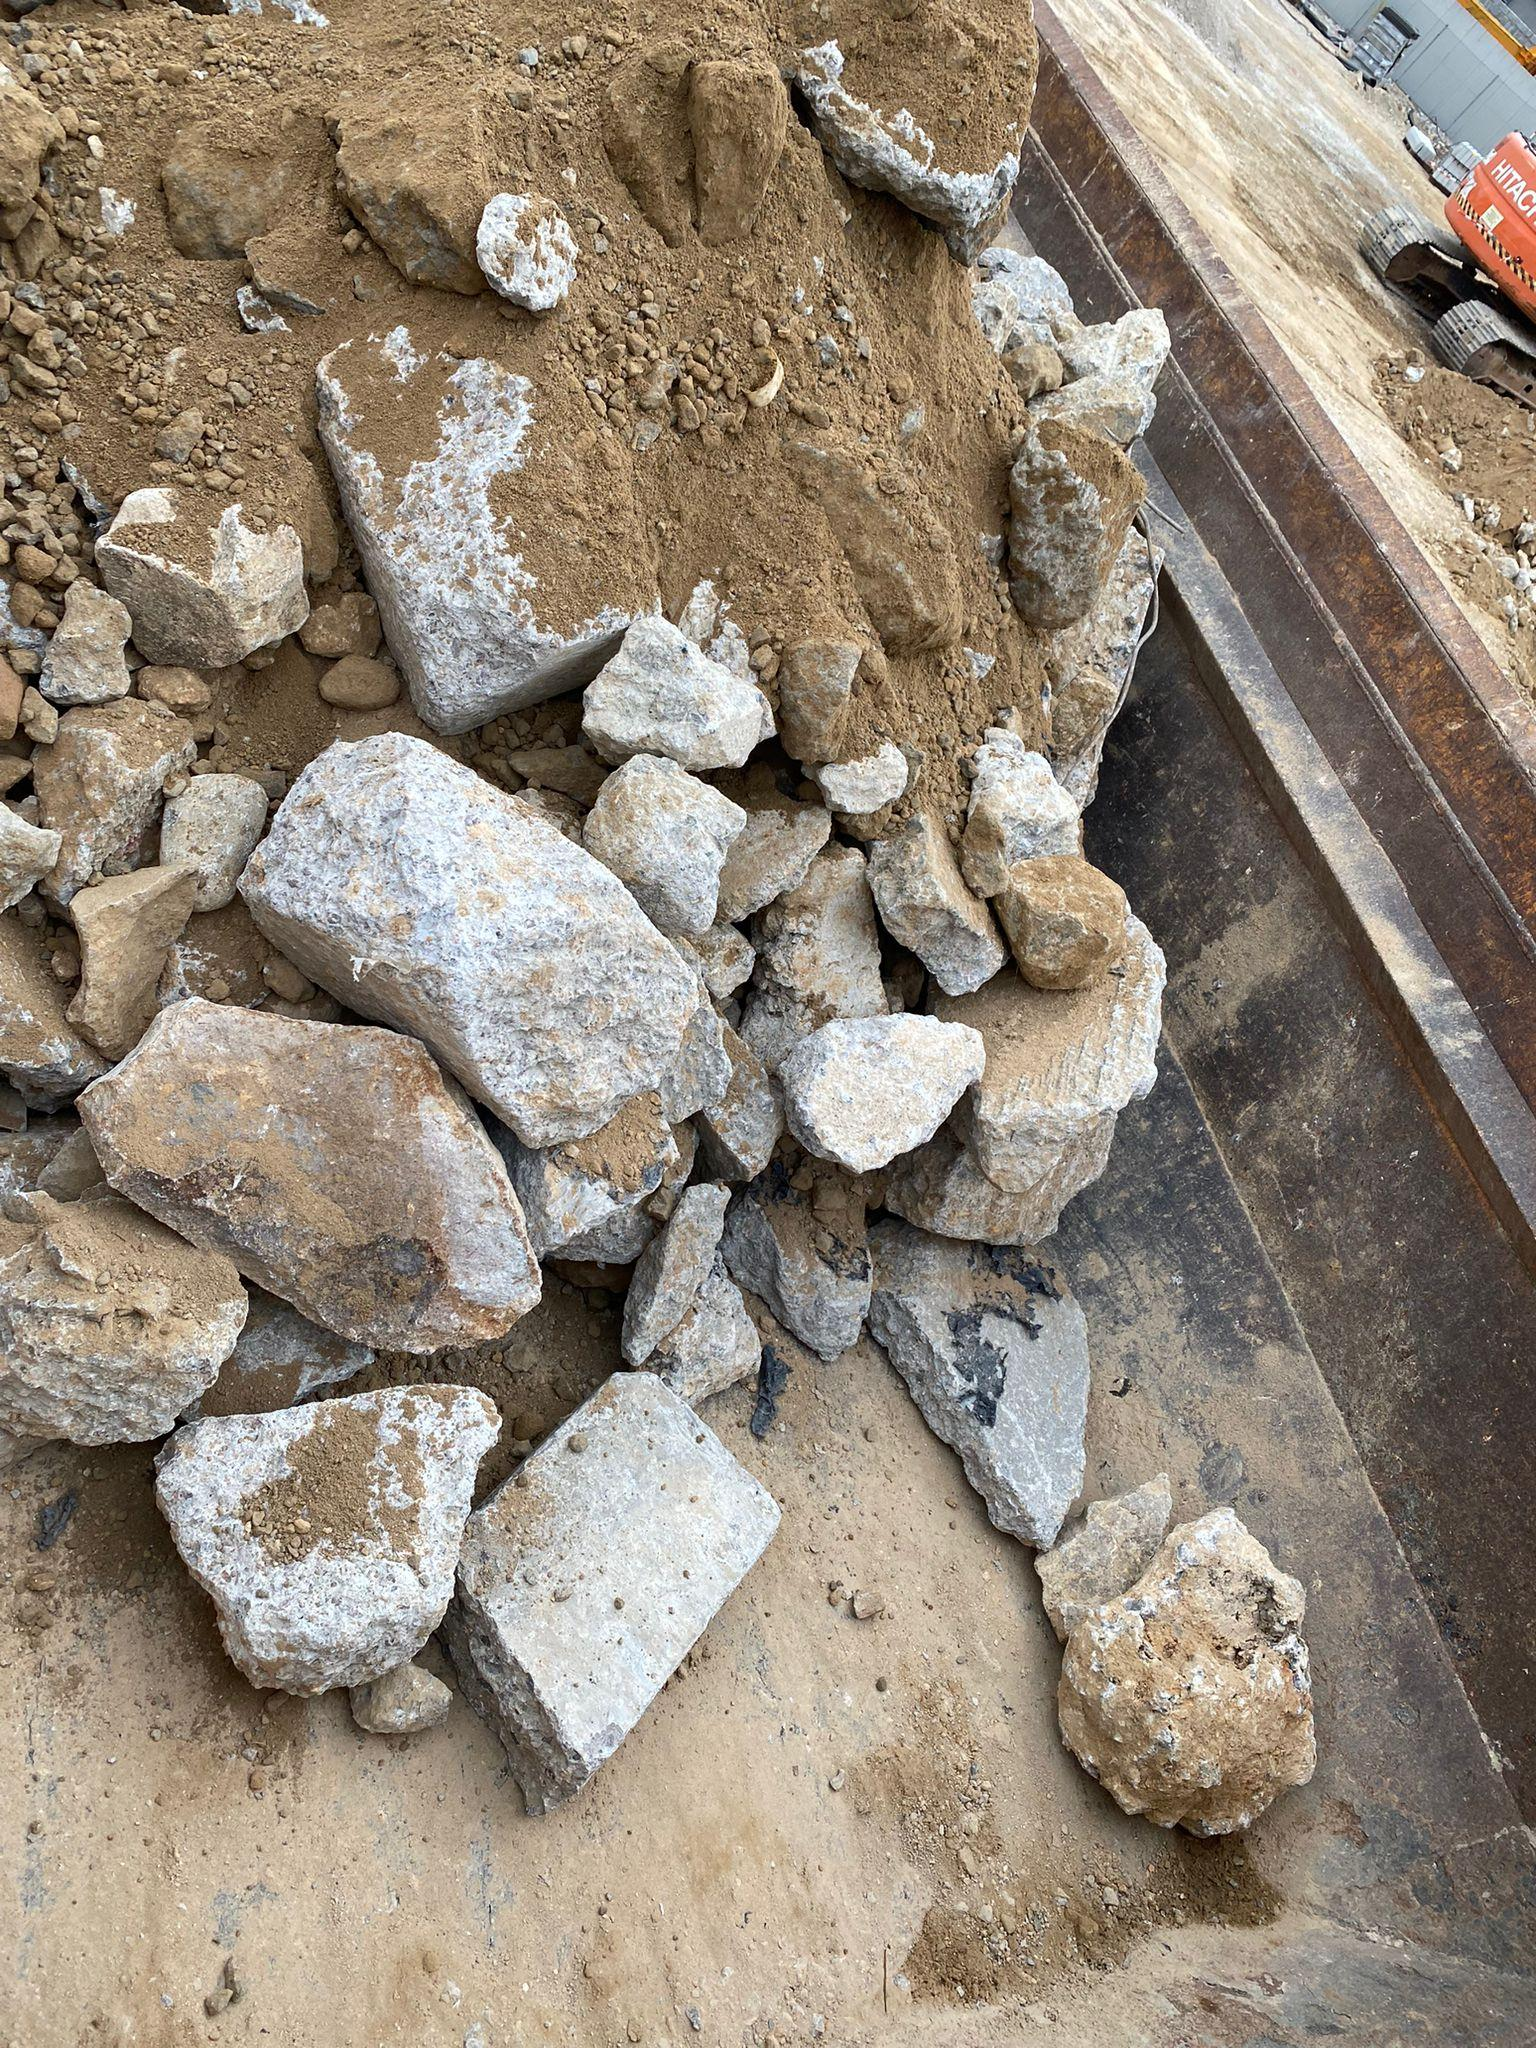stone: (2, 0, 1183, 1822), (234, 727, 733, 1151), (73, 993, 545, 1355), (442, 1367, 783, 1816), (311, 319, 662, 735), (150, 1380, 502, 1696), (1036, 1484, 1318, 1838), (884, 905, 1168, 1243), (863, 1214, 1092, 1550), (0, 1180, 248, 1448), (92, 482, 311, 669), (776, 1008, 987, 1174), (578, 610, 774, 772), (473, 190, 579, 311)
